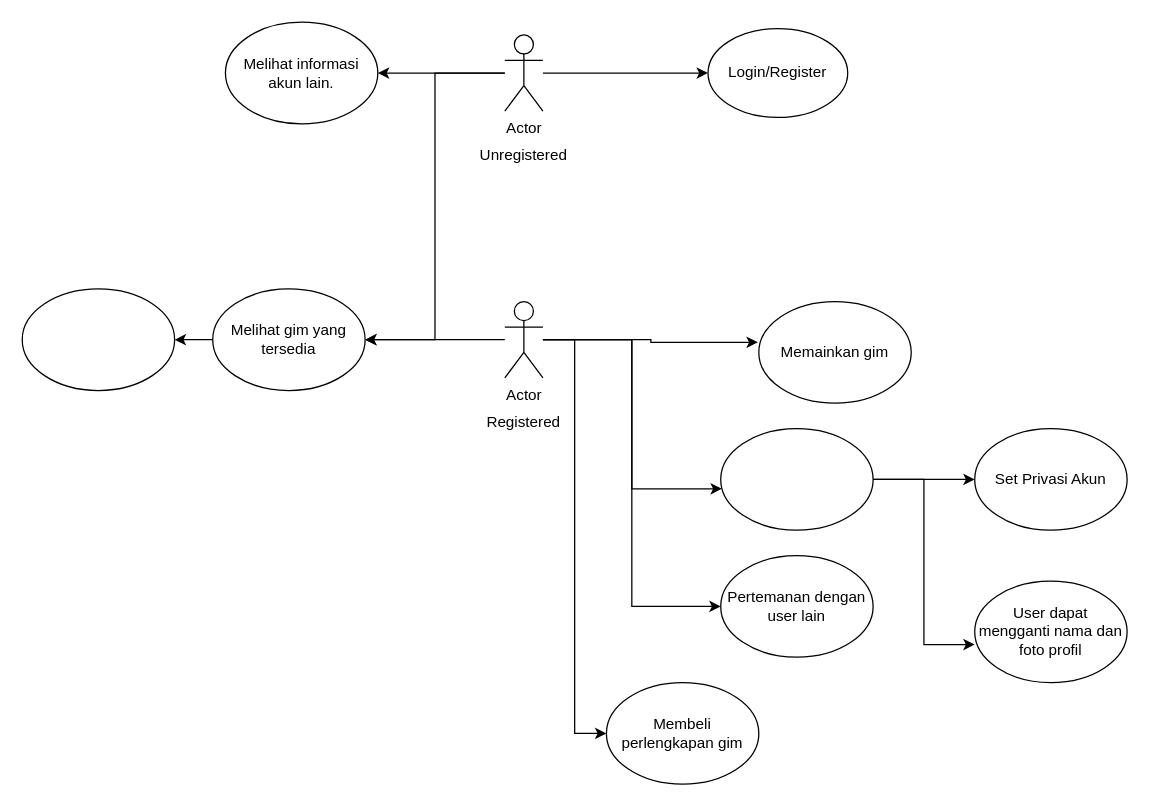
Image size: 1149x806. Some labels were removed from this diagram. The box of each missing label's shape, as (x1, y1, x2, y2) in pixels:
Melihat informasi gim: (21, 288, 175, 391)
Melihat profil data akun, Foto, id, tgl dibuat, nama: (719, 427, 873, 530)
